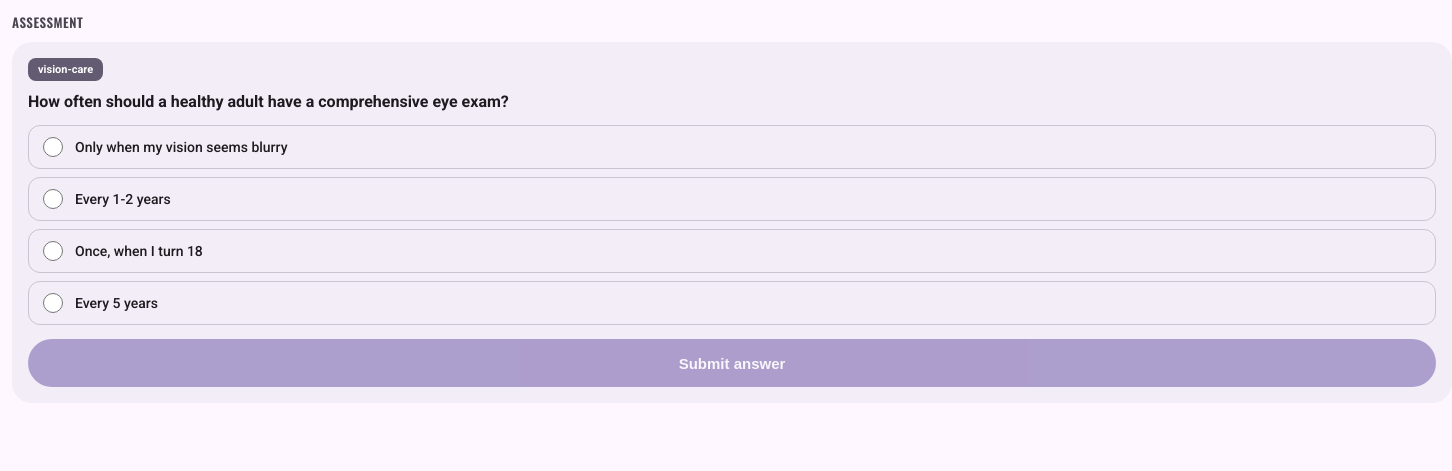
Test case: MCQ knowledge check (US-18 / FR-E4) › refuses to submit offline, without sending anything (US-6 / FR-C4)
The width and height of the screenshot is (1452, 471).
Click the radio button labelled "Every 1-2 years" at (53, 199), box [43,189,63,209]
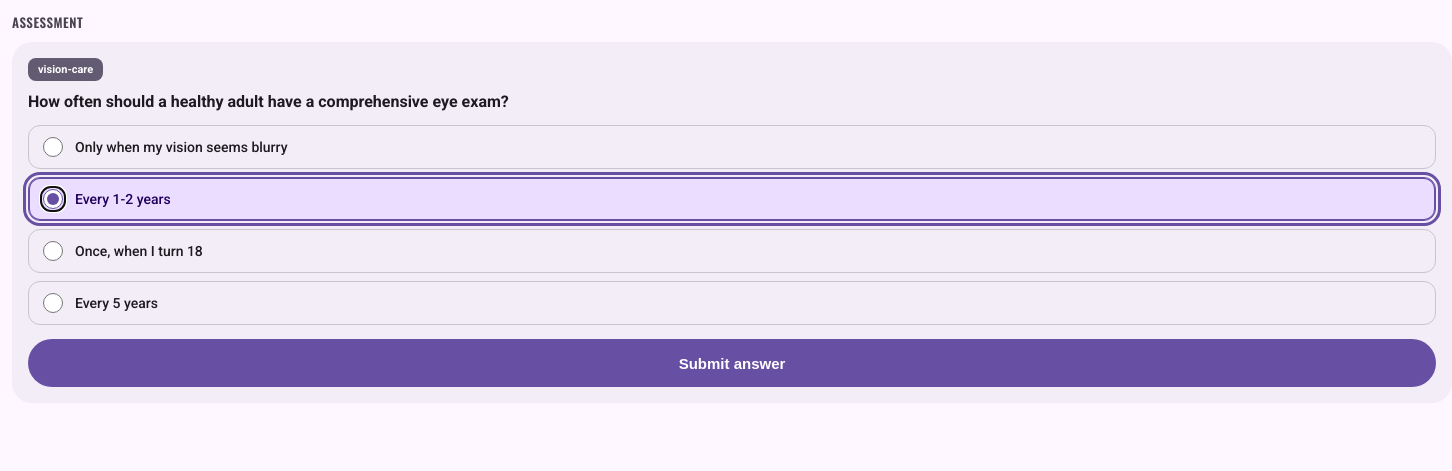
Click the button "Submit answer" at (732, 363), box [28,339,1436,387]
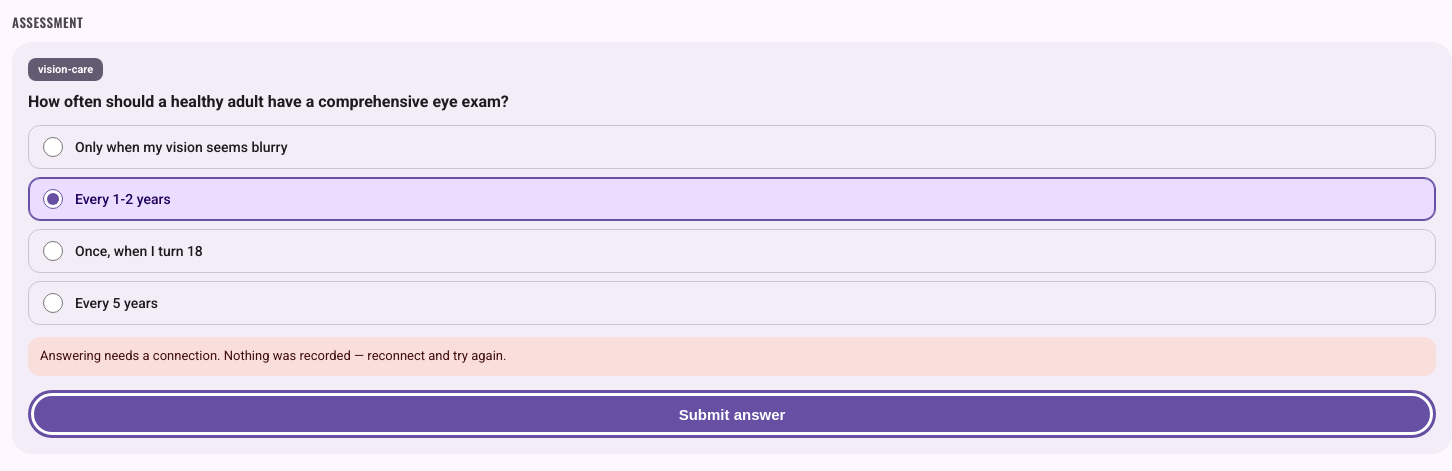
Expected: the radio button labelled "Every 1-2 years" is enabled, [43,189,63,209]
Expected: the message shows "needs a connection", [40,348,506,363]
Expected: the message shows "Nothing was recorded", [40,348,506,363]
